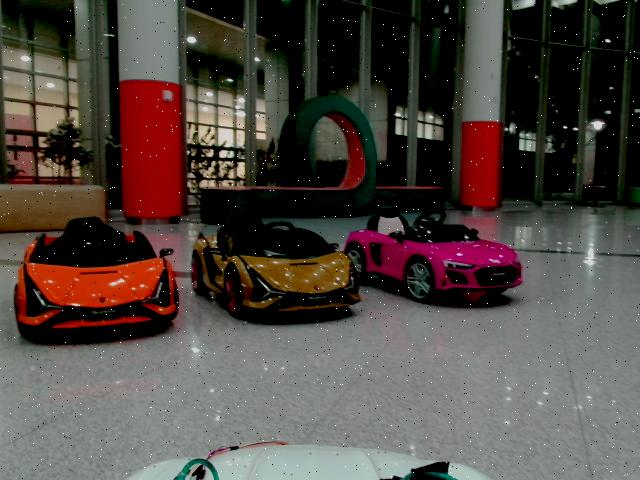car: (14, 217, 179, 336), (191, 210, 361, 316), (343, 206, 523, 301)
